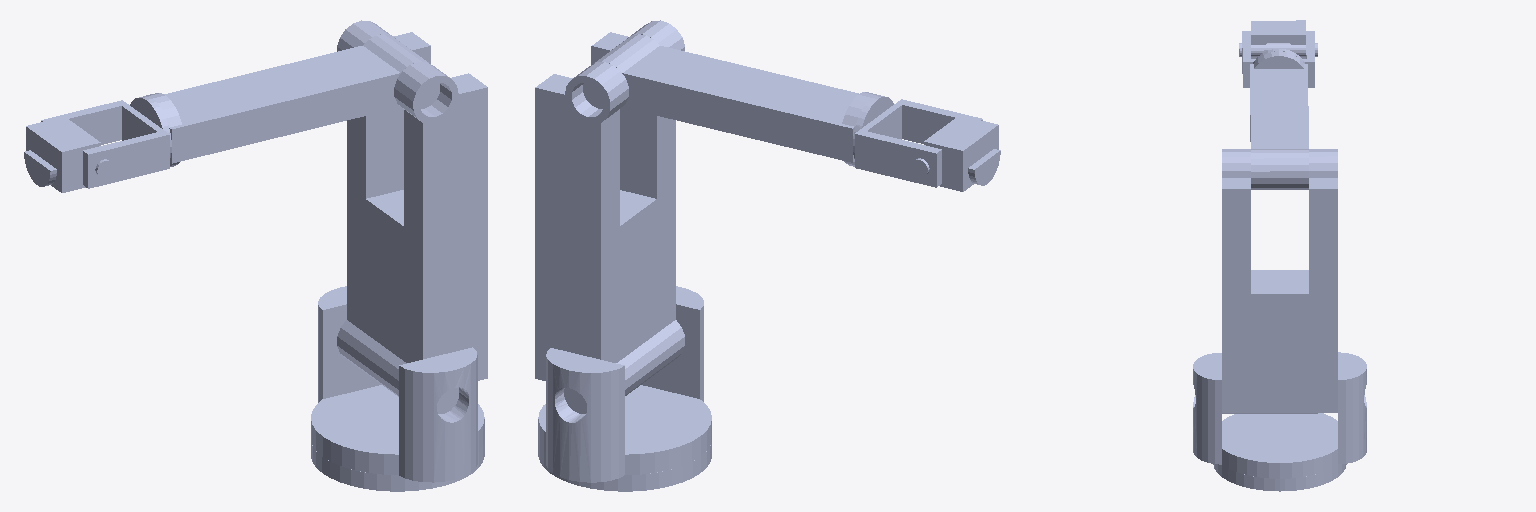
robot.urdf — smarty:
<?xml version="1.0" encoding="utf-8"?>
<!-- This URDF was automatically created by SolidWorks to URDF Exporter! Originally created by Stephen Brawner (brawner@gmail.com) 
     Commit Version: 1.6.0-4-g7f85cfe  Build Version: 1.6.7995.38578
     For more information, please see http://wiki.ros.org/sw_urdf_exporter -->
<robot
  name="smarty">
  <link
    name="base_link">
    <inertial>
      <origin
        xyz="0.112458894705058 0.0119999999999999 0.0240415682041871"
        rpy="0 0 0" />
      <mass
        value="0.997141508249401" />
      <inertia
        ixx="0.00334466190404555"
        ixy="0"
        ixz="2.95486633363188E-38"
        iyy="0.00659359822329916"
        iyz="1.13442333061348E-17"
        izz="0.00334466190404555" />
    </inertial>
    <visual>
      <origin
        xyz="0 0 0"
        rpy="0 0 0" />
      <geometry>
        <mesh
          filename="package://smarty/meshes/base_link.STL" />
      </geometry>
      <material
        name="">
        <color
          rgba="0.792156862745098 0.819607843137255 0.933333333333333 1" />
      </material>
    </visual>
    <collision>
      <origin
        xyz="0 0 0"
        rpy="0 0 0" />
      <geometry>
        <mesh
          filename="package://smarty/meshes/base_link.STL" />
      </geometry>
    </collision>
  </link>
  <link
    name="l1">
    <inertial>
      <origin
        xyz="2.72430254972394E-06 -4.84081027471439E-07 0.045986010607279"
        rpy="0 0 0" />
      <mass
        value="2.41301594757283" />
      <inertia
        ixx="0.0103221730581283"
        ixy="-5.49682431778409E-08"
        ixz="8.42502994562522E-09"
        iyy="0.0266896634837572"
        iyz="4.97119835846574E-08"
        izz="0.0267626968782476" />
    </inertial>
    <visual>
      <origin
        xyz="0 0 0"
        rpy="0 0 0" />
      <geometry>
        <mesh
          filename="package://smarty/meshes/l1.STL" />
      </geometry>
      <material
        name="">
        <color
          rgba="0.792156862745098 0.819607843137255 0.933333333333333 1" />
      </material>
    </visual>
    <collision>
      <origin
        xyz="0 0 0"
        rpy="0 0 0" />
      <geometry>
        <mesh
          filename="package://smarty/meshes/l1.STL" />
      </geometry>
    </collision>
  </link>
  <joint
    name="j1"
    type="continuous">
    <origin
      xyz="0.11246 -0.024042 0.024"
      rpy="0 0 1.5754" />
    <parent
      link="base_link" />
    <child
      link="l1" />
    <axis
      xyz="0 0 1" />
    <limit
      lower="-6.28"
      upper="6.28"
      effort="5"
      velocity="0.6" />
  </joint>
  <link
    name="l2">
    <inertial>
      <origin
        xyz="0.165231668339801 0.0273228433790217 4.23272528138341E-16"
        rpy="0 0 0" />
      <mass
        value="7.05015818581324" />
      <inertia
        ixx="0.0354826029217015"
        ixy="-0.00251465724544439"
        ixz="-2.77545591760922E-16"
        iyy="0.137700303292132"
        iyz="-6.61363325216158E-18"
        izz="0.114668018727875" />
    </inertial>
    <visual>
      <origin
        xyz="0 0 0"
        rpy="0 0 0" />
      <geometry>
        <mesh
          filename="package://smarty/meshes/l2.STL" />
      </geometry>
      <material
        name="">
        <color
          rgba="0.792156862745098 0.819607843137255 0.933333333333333 1" />
      </material>
    </visual>
    <collision>
      <origin
        xyz="0 0 0"
        rpy="0 0 0" />
      <geometry>
        <mesh
          filename="package://smarty/meshes/l2.STL" />
      </geometry>
    </collision>
  </link>
  <joint
    name="j2"
    type="continuous">
    <origin
      xyz="0 0 0.109"
      rpy="3.1416 -1.5708 0" />
    <parent
      link="l1" />
    <child
      link="l2" />
    <axis
      xyz="0 0 1" />
    <limit
      lower="-0.4"
      upper="1.6"
      effort="10"
      velocity="0.4" />
  </joint>
  <link
    name="l3">
    <inertial>
      <origin
        xyz="0.165739050222885 -6.66133814775094E-16 2.32452945780892E-16"
        rpy="0 0 0" />
      <mass
        value="2.2411047959635" />
      <inertia
        ixx="0.0026306785283506"
        ixy="1.27831567491137E-16"
        ixz="-3.10861091642328E-19"
        iyy="0.0366498495542086"
        iyz="5.20882606906334E-18"
        izz="0.0351581847803734" />
    </inertial>
    <visual>
      <origin
        xyz="0 0 0"
        rpy="0 0 0" />
      <geometry>
        <mesh
          filename="package://smarty/meshes/l3.STL" />
      </geometry>
      <material
        name="">
        <color
          rgba="0.792156862745098 0.819607843137255 0.933333333333333 1" />
      </material>
    </visual>
    <collision>
      <origin
        xyz="0 0 0"
        rpy="0 0 0" />
      <geometry>
        <mesh
          filename="package://smarty/meshes/l3.STL" />
      </geometry>
    </collision>
  </link>
  <joint
    name="j3"
    type="continuous">
    <origin
      xyz="0.425 0 0"
      rpy="0 0 -1.5708" />
    <parent
      link="l2" />
    <child
      link="l3" />
    <axis
      xyz="0 0 1" />
    <limit
      lower="-1.1"
      upper="1.1"
      effort="10"
      velocity="0.4" />
  </joint>
  <link
    name="l4">
    <inertial>
      <origin
        xyz="-7.94503351997378E-16 0 0.0436685322374739"
        rpy="0 0 0" />
      <mass
        value="0.298813600776043" />
      <inertia
        ixx="0.000585663342419047"
        ixy="-2.82781005691958E-19"
        ixz="-1.86855468164299E-18"
        iyy="0.00109888441659249"
        iyz="-5.94177153381262E-19"
        izz="0.000708162025673873" />
    </inertial>
    <visual>
      <origin
        xyz="0 0 0"
        rpy="0 0 0" />
      <geometry>
        <mesh
          filename="package://smarty/meshes/l4.STL" />
      </geometry>
      <material
        name="">
        <color
          rgba="0.792156862745098 0.819607843137255 0.933333333333333 1" />
      </material>
    </visual>
    <collision>
      <origin
        xyz="0 0 0"
        rpy="0 0 0" />
      <geometry>
        <mesh
          filename="package://smarty/meshes/l4.STL" />
      </geometry>
    </collision>
  </link>
  <joint
    name="j4"
    type="continuous">
    <origin
      xyz="0.375 0 0"
      rpy="0 1.5708 0" />
    <parent
      link="l3" />
    <child
      link="l4" />
    <axis
      xyz="0 0 1" />
    <limit
      lower="-6.28"
      upper="6.28"
      effort="5"
      velocity="3.14" />
  </joint>
  <link
    name="l5">
    <inertial>
      <origin
        xyz="1.02499020035451E-09 6.67443489366093E-09 0.0203390758636098"
        rpy="0 0 0" />
      <mass
        value="0.273297613750633" />
      <inertia
        ixx="0.000182445897734845"
        ixy="5.35819967971489E-11"
        ixz="-3.57537126337979E-12"
        iyy="0.000413096157847315"
        iyz="-1.41751468883735E-10"
        izz="0.000402699107964568" />
    </inertial>
    <visual>
      <origin
        xyz="0 0 0"
        rpy="0 0 0" />
      <geometry>
        <mesh
          filename="package://smarty/meshes/l5.STL" />
      </geometry>
      <material
        name="">
        <color
          rgba="0.792156862745098 0.819607843137255 0.933333333333333 1" />
      </material>
    </visual>
    <collision>
      <origin
        xyz="0 0 0"
        rpy="0 0 0" />
      <geometry>
        <mesh
          filename="package://smarty/meshes/l5.STL" />
      </geometry>
    </collision>
  </link>
  <joint
    name="j5"
    type="continuous">
    <origin
      xyz="0 0 0.112"
      rpy="0 0 0" />
    <parent
      link="l4" />
    <child
      link="l5" />
    <axis
      xyz="1 0 0" />
    <limit
      lower="-1.6"
      upper="1.6"
      effort="2"
      velocity="3.14" />
  </joint>
  <link
    name="l6">
    <inertial>
      <origin
        xyz="7.3899220076612E-16 -0.0036576311879748 0.0199237687937331"
        rpy="0 0 0" />
      <mass
        value="0.0781471172580461" />
      <inertia
        ixx="2.44312541272295E-05"
        ixy="1.37390888459256E-19"
        ixz="1.51036562407282E-19"
        iyy="2.54767270417922E-05"
        iyz="4.30904522613063E-06"
        izz="2.91481777295479E-05" />
    </inertial>
    <visual>
      <origin
        xyz="0 0 0"
        rpy="0 0 0" />
      <geometry>
        <mesh
          filename="package://smarty/meshes/l6.STL" />
      </geometry>
      <material
        name="">
        <color
          rgba="0.792156862745098 0.819607843137255 0.933333333333333 1" />
      </material>
    </visual>
    <collision>
      <origin
        xyz="0 0 0"
        rpy="0 0 0" />
      <geometry>
        <mesh
          filename="package://smarty/meshes/l6.STL" />
      </geometry>
    </collision>
  </link>
  <joint
    name="j6"
    type="continuous">
    <origin
      xyz="0 0 0.025001"
      rpy="0 0 0" />
    <parent
      link="l5" />
    <child
      link="l6" />
    <axis
      xyz="0 0 1" />
    <limit
      lower="-6.28"
      upper="6.28"
      effort="2"
      velocity="3.14" />
  </joint>
</robot>

--- What the picture shows (computed from the rendered views, not written in the file) ---
3 views of the same robot in one strip: view 1: azimuth 30°, elevation 25°; view 2: azimuth 150°, elevation 25°; view 3: azimuth 270°, elevation 25° (orthographic).
Model smarty with 7 links and 6 joints (6 continuous), rooted at base_link, posed every joint at zero.
Links seen in each view (by area): view 1: l2, l1, l3, l4, l5, base_link, l6; view 2: l2, l1, l3, l4, l5, base_link, l6; view 3: l2, l1, l3, l5, base_link, l4.
Link boxes in pixels (bbox=[...]): l2: bbox=[337, 20, 487, 413]; l1: bbox=[311, 286, 484, 482]; l3: bbox=[146, 34, 439, 166]; l4: bbox=[41, 96, 171, 188]; l5: bbox=[26, 116, 113, 192]; base_link: bbox=[311, 440, 484, 491]; l6: bbox=[24, 141, 56, 186]; l2: bbox=[535, 20, 684, 413]; l1: bbox=[538, 286, 711, 482]; l3: bbox=[583, 34, 876, 166]; l4: bbox=[853, 95, 982, 187]; l5: bbox=[911, 115, 998, 191]; base_link: bbox=[538, 440, 711, 491]; l6: bbox=[968, 140, 1000, 185]; l2: bbox=[1222, 149, 1337, 413]; l1: bbox=[1193, 352, 1366, 478]; l3: bbox=[1250, 51, 1308, 189]; l5: bbox=[1239, 20, 1317, 58]; base_link: bbox=[1213, 464, 1346, 491]; l4: bbox=[1242, 31, 1314, 87].
Bounding box of the posed robot: 0.6672 × 0.3 × 0.608 m (x, y, z).
7 mesh visuals loaded from 7 distinct referenced files (7 binary STL).
